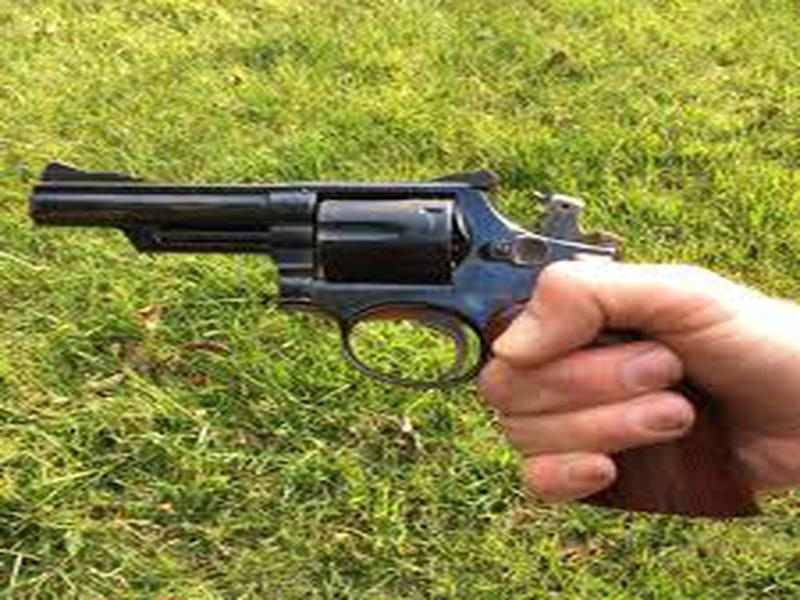Revolver: (24, 138, 618, 395)
